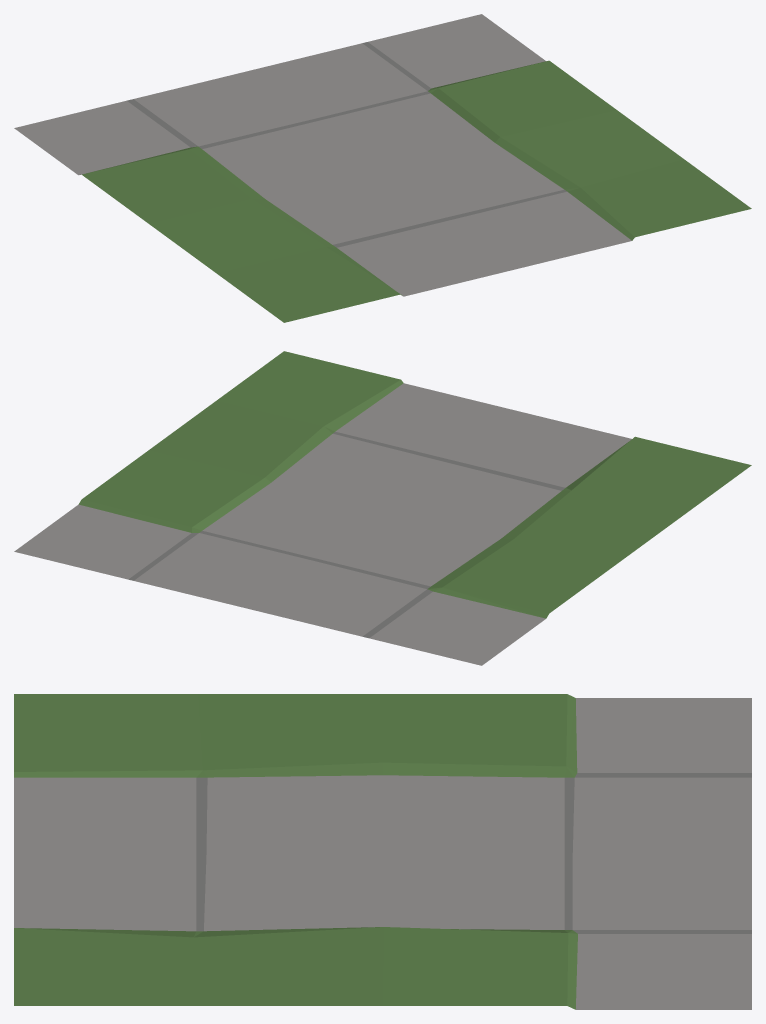
Rendered from SM_Env_Driveway_PathBoth_01.fbx.
3 views of the same model, one above another, from view 1: azimuth 30°, elevation 25°; view 2: azimuth 150°, elevation 25°; view 3: azimuth 270°, elevation 25° (orthographic). The views are drawn at different scales.
Visible parts, largest first — view 1: SM_Env_Driveway_PathBoth_01; view 2: SM_Env_Driveway_PathBoth_01; view 3: SM_Env_Driveway_PathBoth_01.
Part boxes in pixels (box(x1,y1,x2,y2)): SM_Env_Driveway_PathBoth_01: box(14, 14, 751, 322); SM_Env_Driveway_PathBoth_01: box(14, 351, 751, 665); SM_Env_Driveway_PathBoth_01: box(14, 694, 751, 1009).
Size of the model in its own units: 500 by 4.07 by 500.
